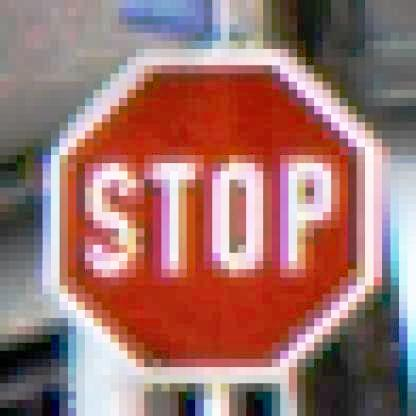Stop Sign: (48, 44, 390, 382)
